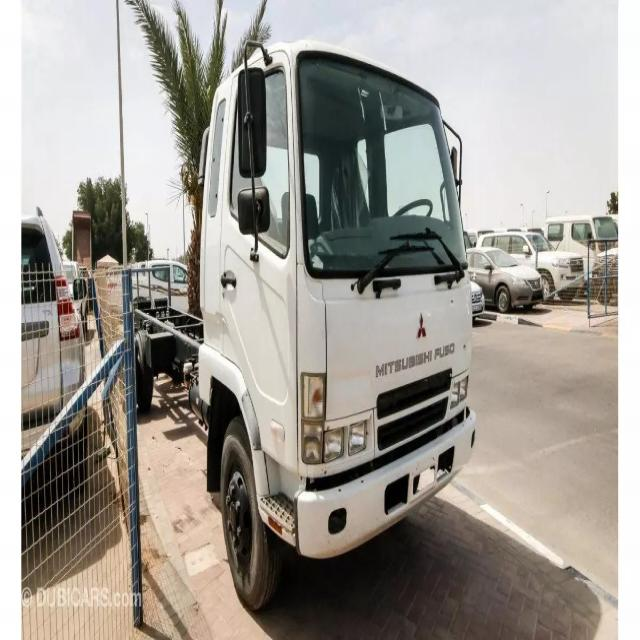truck: (123, 46, 475, 610)
